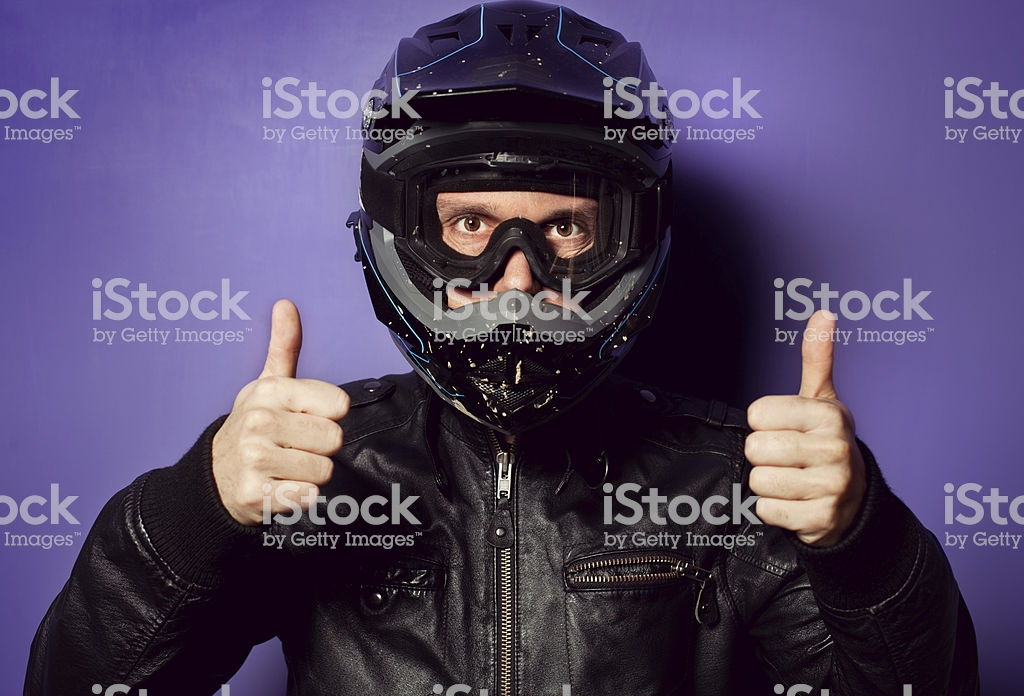helmet: (353, 6, 683, 390)
